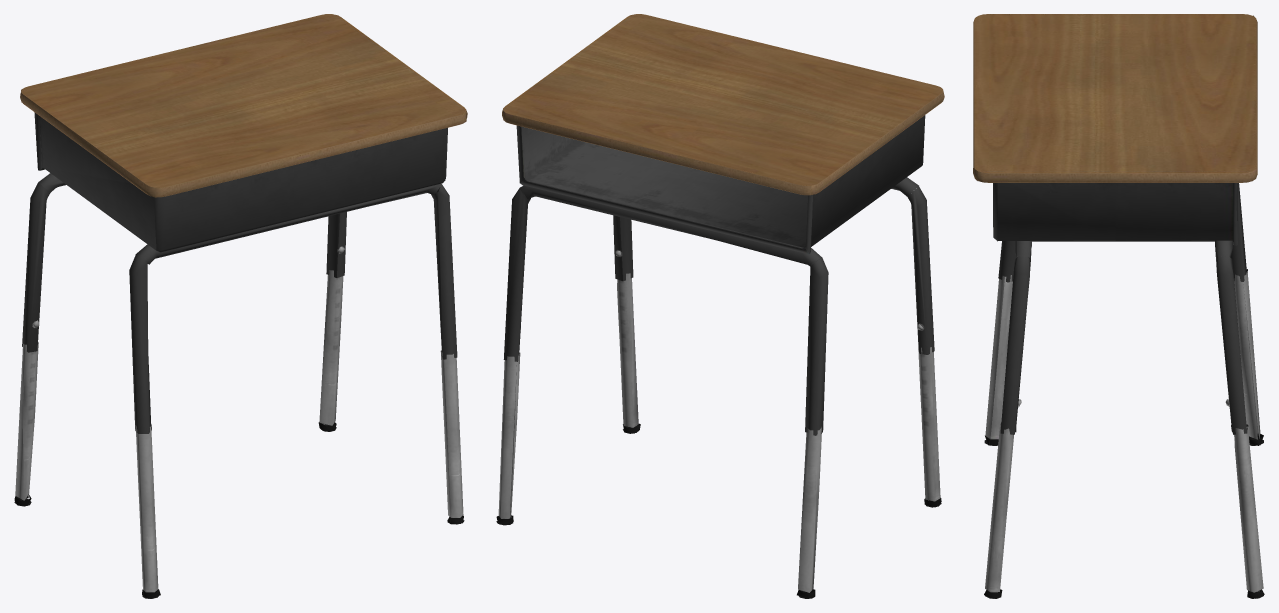
The model's file is SchoolDesk_01_leve.gltf.
The picture shows the model from 3 angles, left to right: view 1: azimuth 30°, elevation 25°; view 2: azimuth 150°, elevation 25°; view 3: azimuth 270°, elevation 25°; orthographic projection. The views are drawn at different scales.
Visible parts, largest first — view 1: SchoolDesk_01; view 2: SchoolDesk_01; view 3: SchoolDesk_01.
Part boxes in pixels (x1,y1,x2,y2): SchoolDesk_01: (14, 14, 467, 598); SchoolDesk_01: (496, 14, 944, 598); SchoolDesk_01: (973, 14, 1264, 598).
Size of the model in its own units: 0.7125 by 0.8825 by 0.5476.
Materials: 1 (1 with a texture image).
